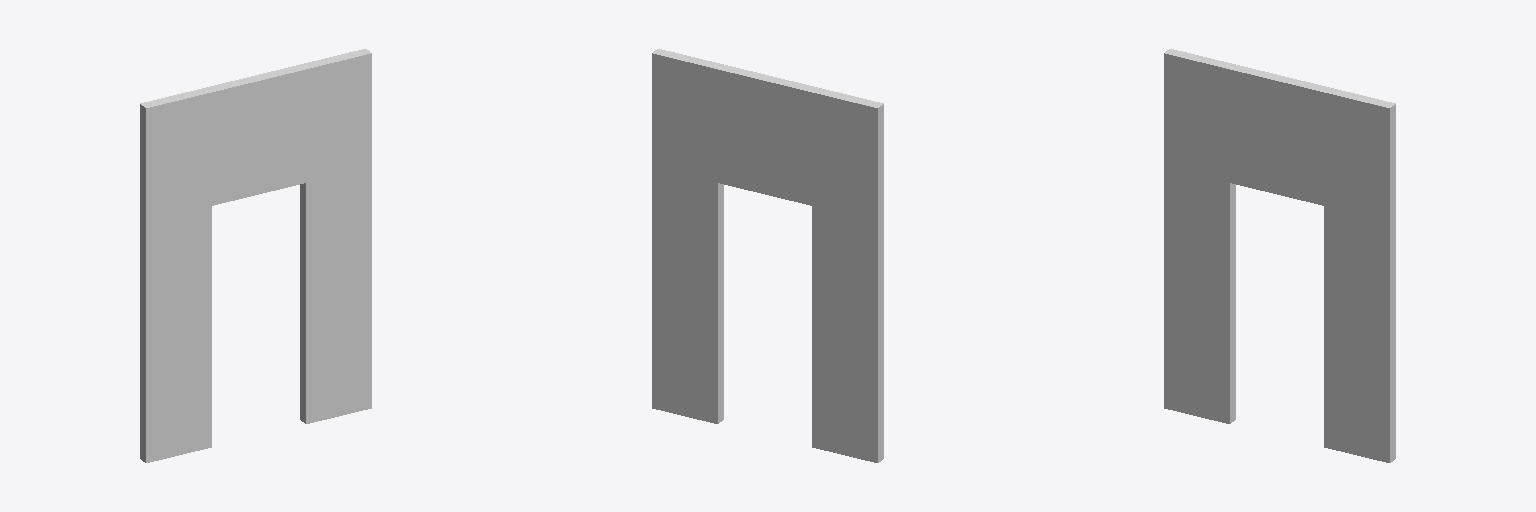
File: SM_WallInteriorDoor.obj
3 renders of one model, left to right at view 1: azimuth 30°, elevation 25°; view 2: azimuth 150°, elevation 25°; view 3: azimuth 330°, elevation 25°, orthographic.
Parts seen in each view (by area): view 1: WallInteriorDoor; view 2: WallInteriorDoor; view 3: WallInteriorDoor.
Boxes of the visible parts, x1,y1,x2,y2 form: WallInteriorDoor: [140, 49, 371, 462]; WallInteriorDoor: [652, 49, 883, 462]; WallInteriorDoor: [1164, 49, 1395, 462].
Size of the model in its own units: 2 by 3 by 0.1.